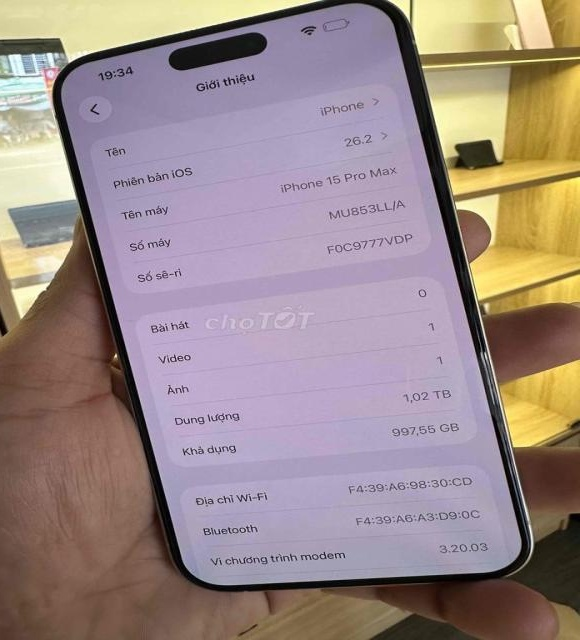scratch: (468, 344, 525, 500)
